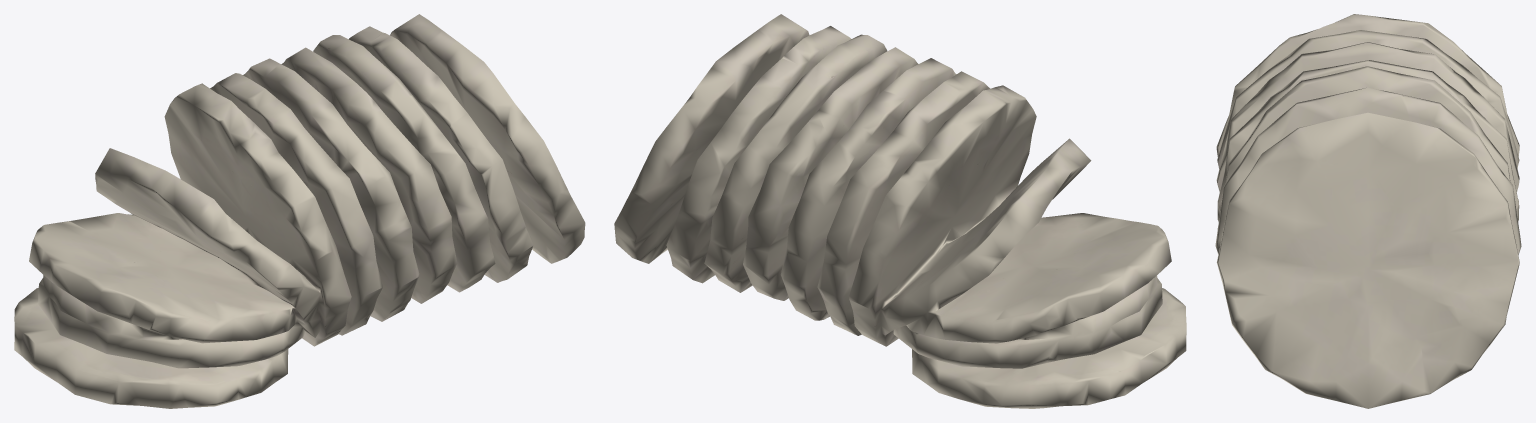
The model's file is cut_mandrake.fbx.
3 renders of one model, left to right at view 1: azimuth 30°, elevation 25°; view 2: azimuth 150°, elevation 25°; view 3: azimuth 270°, elevation 25°, orthographic. The views are drawn at different scales.
Visible parts, largest first — view 1: tripo_node_250ed9a8; view 2: tripo_node_250ed9a8; view 3: tripo_node_250ed9a8.
Boxes of the visible parts, box(x1,y1,x2,y2) form: tripo_node_250ed9a8: box(14, 14, 585, 408); tripo_node_250ed9a8: box(614, 14, 1186, 408); tripo_node_250ed9a8: box(1215, 14, 1521, 408).
Bounding box in the file's own units: 1 × 0.4892 × 0.4929.
Materials: 1 (1 with a texture image).
